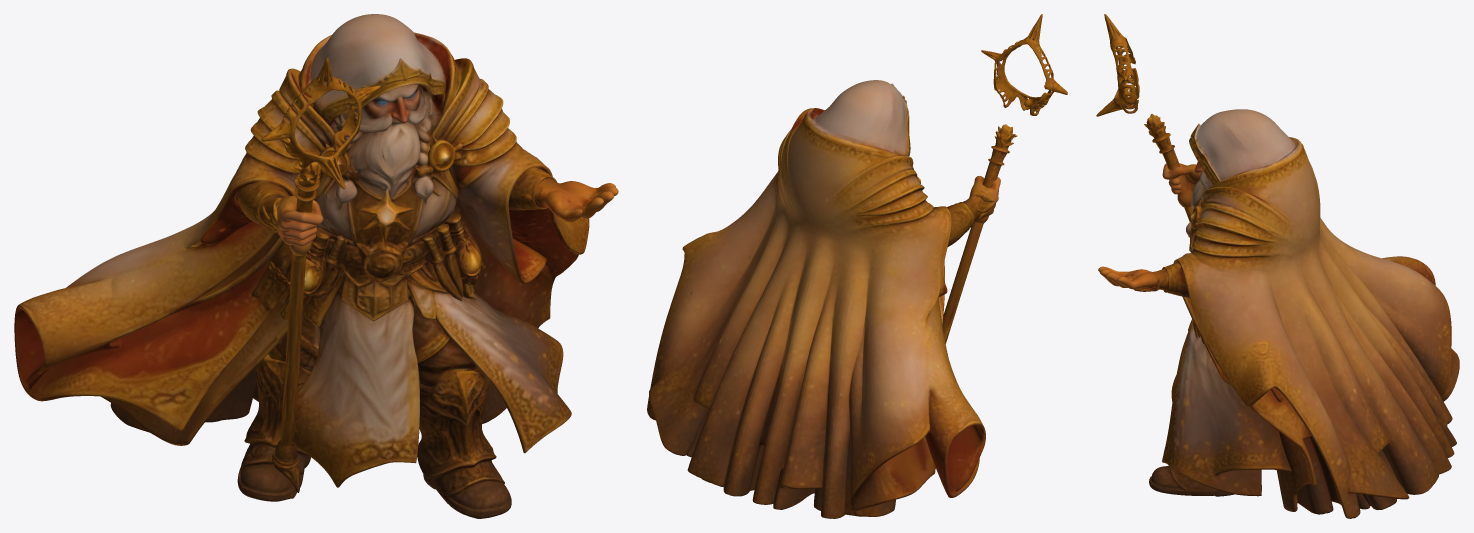
File: dwarf_cleric_full_male_01.glb
3 views of the same model, side by side, from view 1: azimuth 30°, elevation 25°; view 2: azimuth 150°, elevation 25°; view 3: azimuth 270°, elevation 25° (orthographic). The views are drawn at different scales.
Parts seen in each view (by area): view 1: material; view 2: material; view 3: material.
Boxes of the visible parts, x1,y1,x2,y2 form: material: (14, 14, 618, 518); material: (647, 14, 1067, 518); material: (1096, 14, 1459, 518).
Size of the model in its own units: 0.8123 by 0.8744 by 0.72.
Materials: 1 (1 with a texture image).
